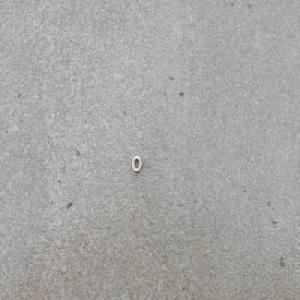Nut: (132, 155, 142, 172)
